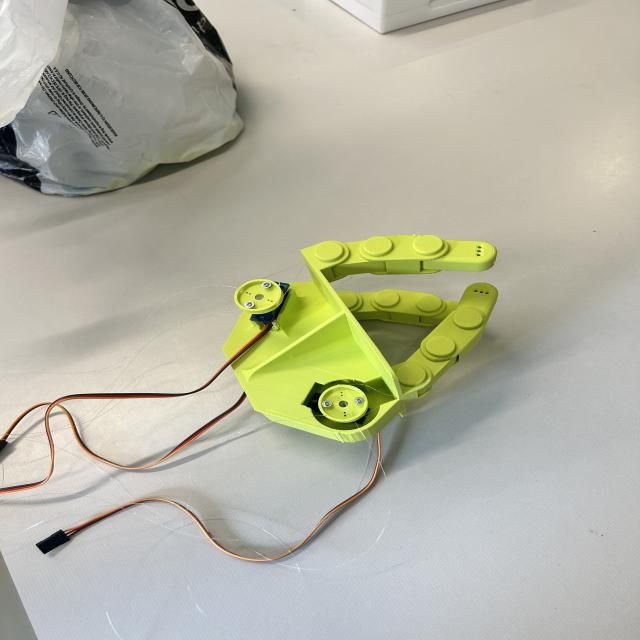prosthetic: (222, 233, 500, 448)
